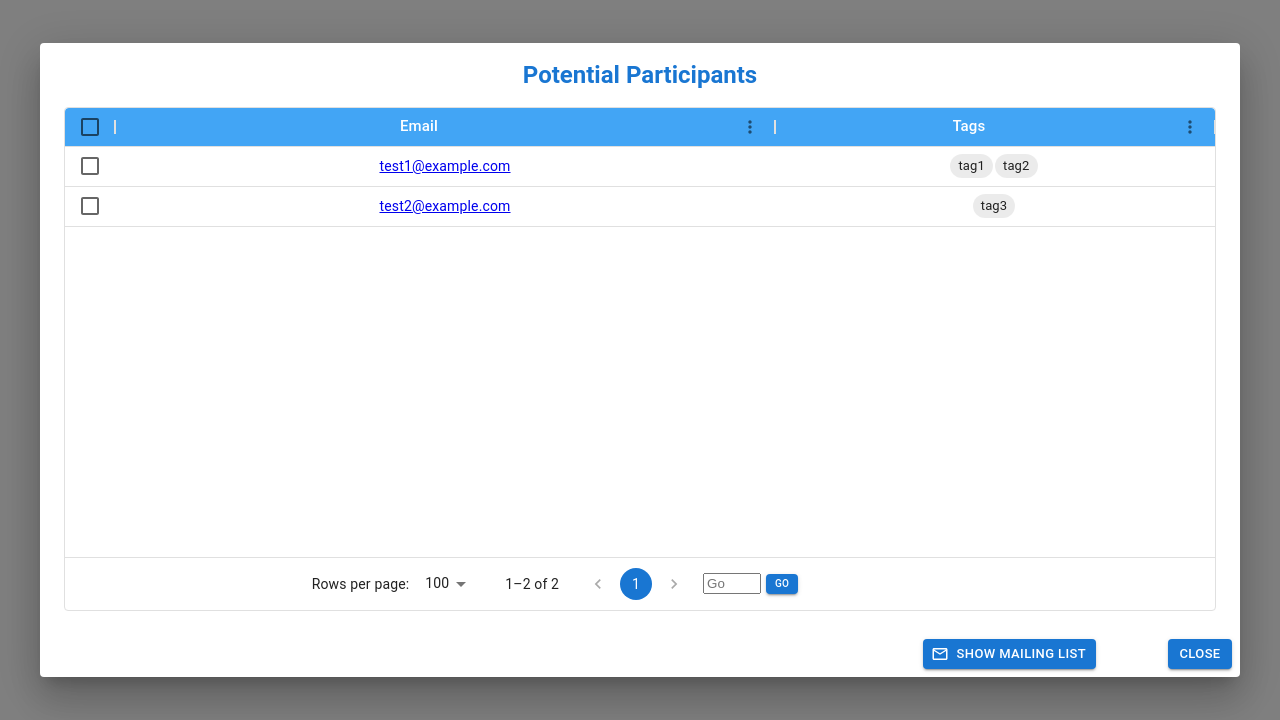
Test case: StudyParticipantTable › opens and closes the MailingList on button click
The width and height of the screenshot is (1280, 720).
Step 1. Click the button "Show Mailing List" → click(1009, 654), box [923, 639, 1096, 669]
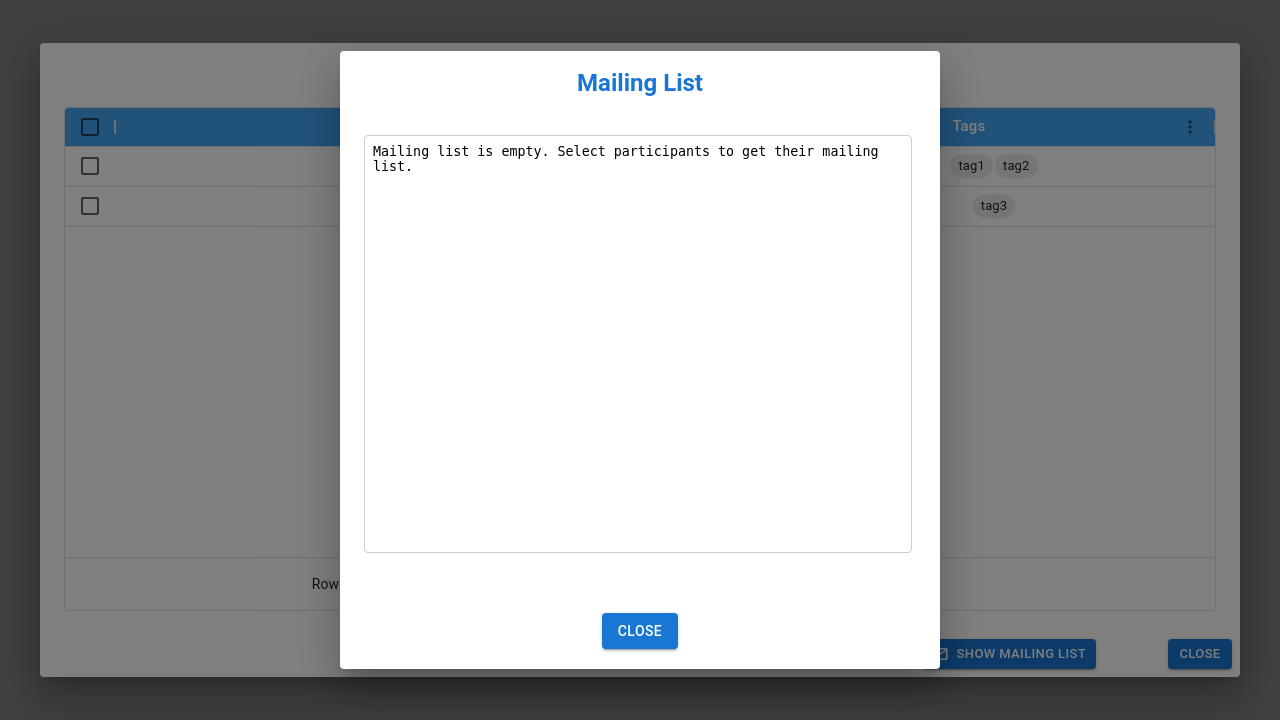
Check: the text "Mailing List" is shown, box [577, 69, 703, 97]
